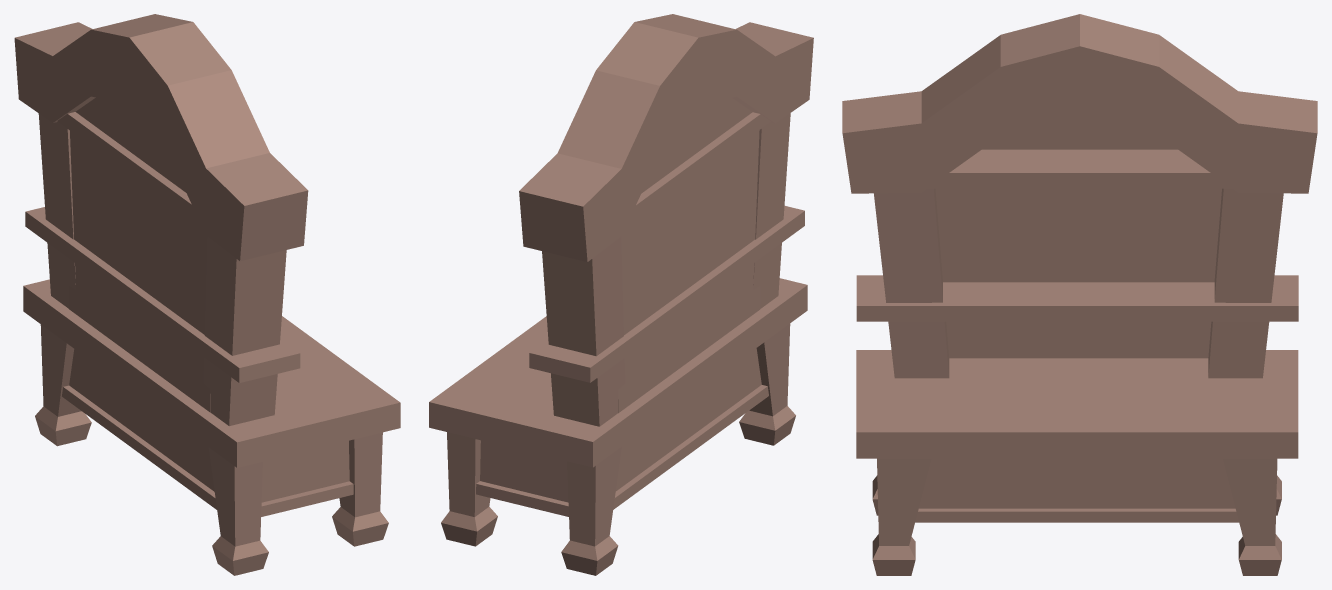
Rendered from shelf_small.fbx.
3 renders of one model, left to right at view 1: azimuth 30°, elevation 25°; view 2: azimuth 150°, elevation 25°; view 3: azimuth 270°, elevation 25°, orthographic. The views are drawn at different scales.
Visible parts, largest first — view 1: Cube.011; view 2: Cube.011; view 3: Cube.011.
Boxes of the visible parts, bbox=[...] form: Cube.011: bbox=[14, 14, 400, 575]; Cube.011: bbox=[429, 14, 813, 575]; Cube.011: bbox=[842, 14, 1317, 575].
Bounding box in the file's own units: 255 × 698 × 621.
